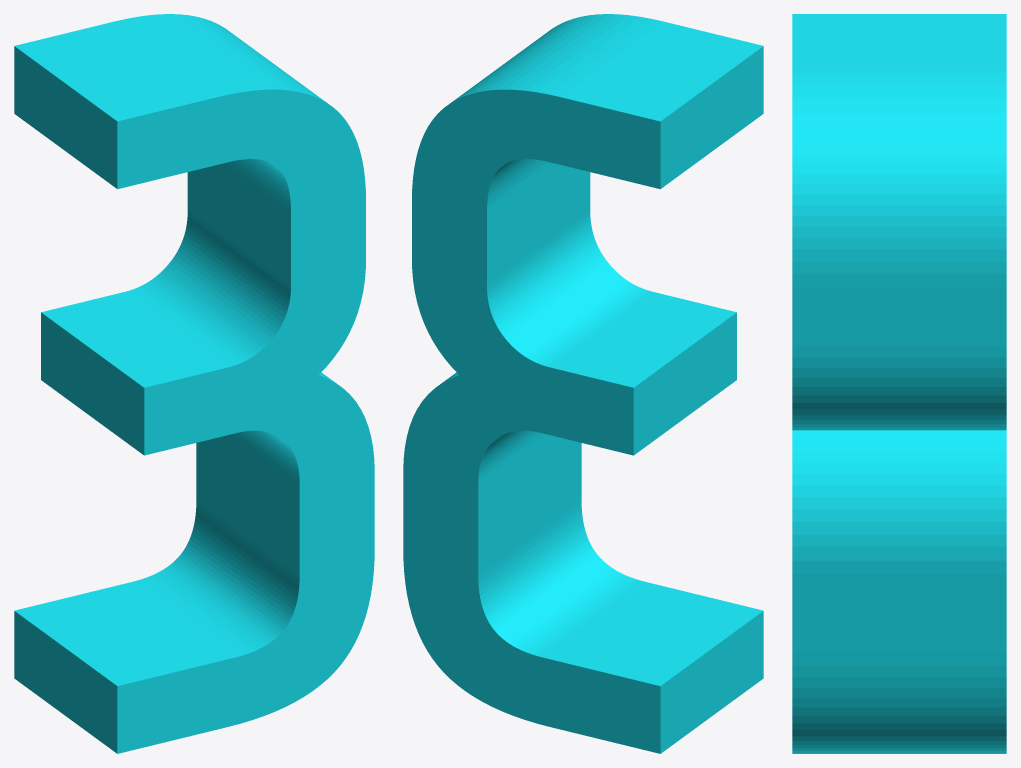
File: digit3.glb
The picture shows the model from 3 angles, left to right: view 1: azimuth 30°, elevation 25°; view 2: azimuth 150°, elevation 25°; view 3: azimuth 270°, elevation 25°; orthographic projection. The views are drawn at different scales.
Parts seen in each view (by area): view 1: Digit3; view 2: Digit3; view 3: Digit3.
Boxes of the visible parts, x1=… form: Digit3: x1=14, y1=14, x2=374, y2=753; Digit3: x1=403, y1=14, x2=763, y2=753; Digit3: x1=792, y1=14, x2=1006, y2=753.
Bounding box in the file's own units: 0.2734 × 0.6422 × 0.19.
